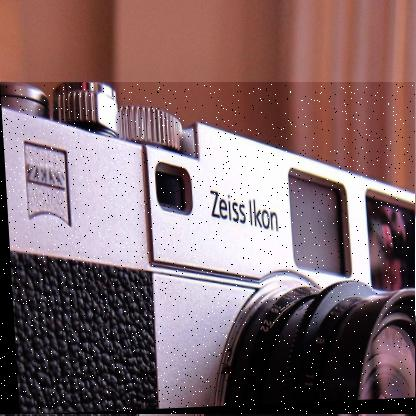Camera: (1, 83, 416, 416)
